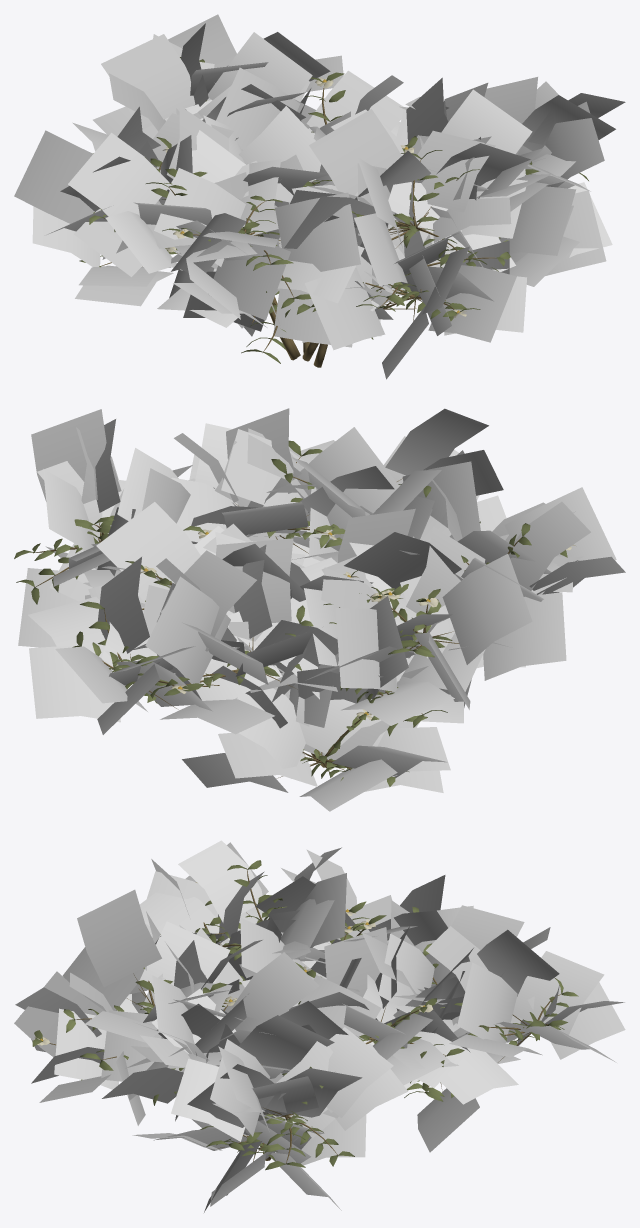
The model's file is Ciste_Etale_LOD0.fbx.
3 views of the same model, one above another, from view 1: azimuth 30°, elevation 25°; view 2: azimuth 150°, elevation 25°; view 3: azimuth 270°, elevation 25° (orthographic). The views are drawn at different scales.
Parts seen in each view (by area): view 1: Ciste_Etale; view 2: Ciste_Etale; view 3: Ciste_Etale.
Part boxes in pixels (box(x1,y1,x2,y2)): Ciste_Etale: box(14, 14, 625, 379); Ciste_Etale: box(14, 408, 625, 811); Ciste_Etale: box(14, 840, 625, 1212).
Bounding box in the file's own units: 201 × 96.94 × 209.
